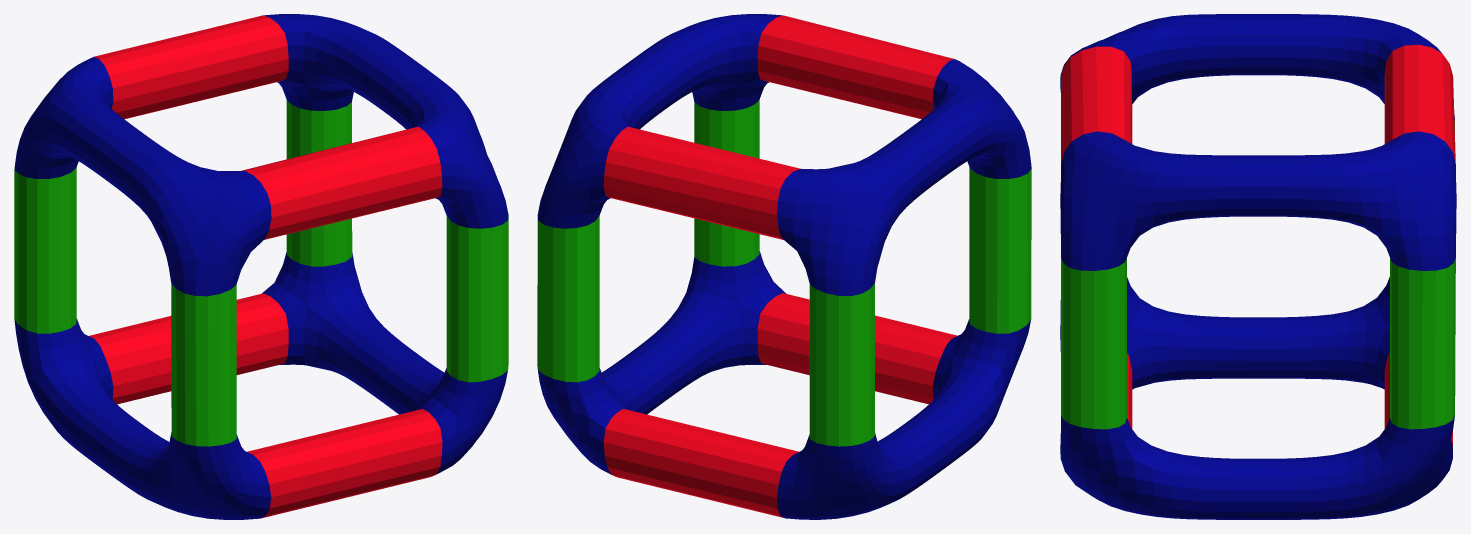
Rendered from rubbercubeSimple.fbx.
The picture shows the model from 3 angles, left to right: view 1: azimuth 30°, elevation 25°; view 2: azimuth 150°, elevation 25°; view 3: azimuth 270°, elevation 25°; orthographic projection. The views are drawn at different scales.
Visible parts, largest first — view 1: RubberCuberPlayerSimple; view 2: RubberCuberPlayerSimple; view 3: RubberCuberPlayerSimple.
Part boxes in pixels (bbox=[...]): RubberCuberPlayerSimple: bbox=[14, 14, 508, 519]; RubberCuberPlayerSimple: bbox=[537, 14, 1031, 519]; RubberCuberPlayerSimple: bbox=[1060, 14, 1456, 519].
Size of the model in its own units: 1 by 1 by 1.
